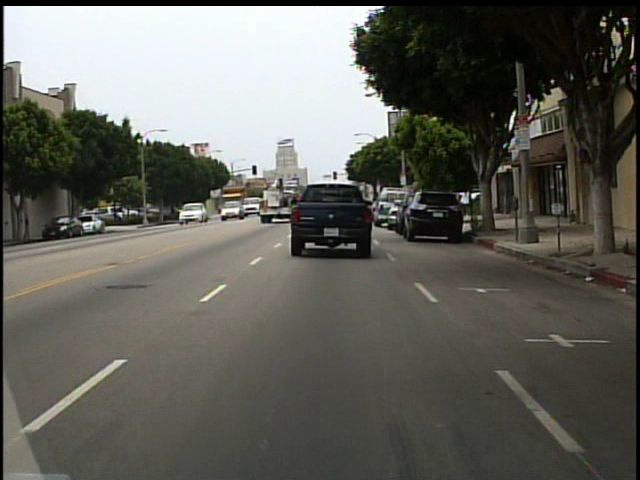person: (461, 186, 473, 212)
